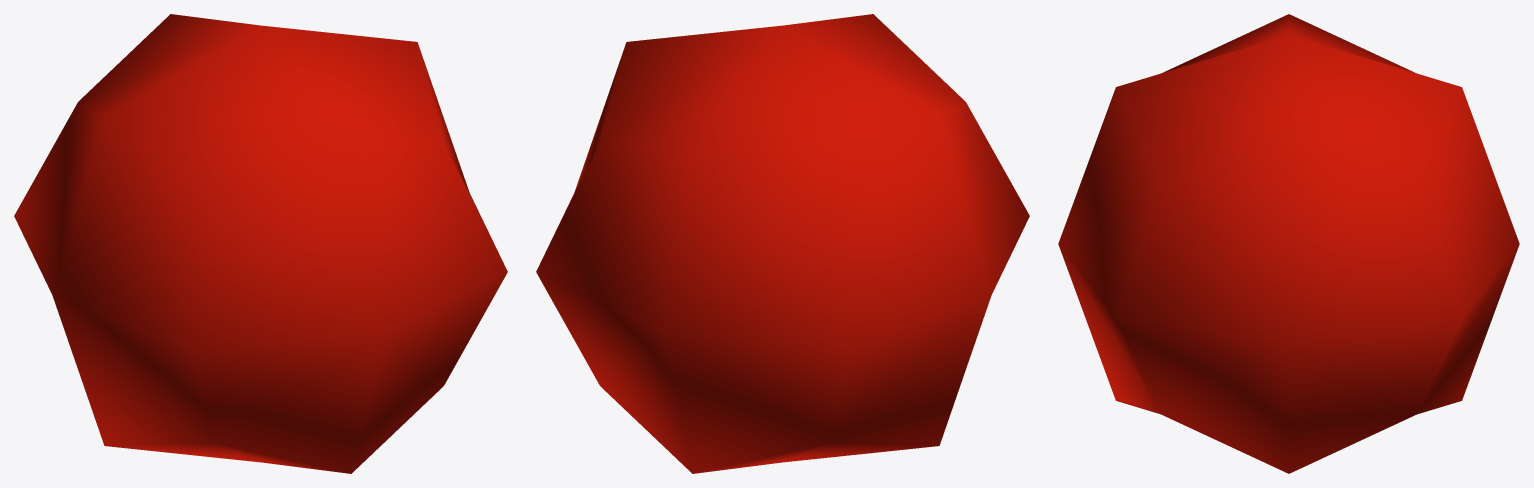
File: Yard_DriveWay_BasketBallHoop_ball.FBX
3 renders of one model, left to right at view 1: azimuth 30°, elevation 25°; view 2: azimuth 150°, elevation 25°; view 3: azimuth 270°, elevation 25°, orthographic. The views are drawn at different scales.
Visible parts, largest first — view 1: Yard_DriveWay_BasketBallHoop_ball; view 2: Yard_DriveWay_BasketBallHoop_ball; view 3: Yard_DriveWay_BasketBallHoop_ball.
Boxes of the visible parts, x1,y1,x2,y2 form: Yard_DriveWay_BasketBallHoop_ball: (14, 14, 507, 473); Yard_DriveWay_BasketBallHoop_ball: (536, 14, 1029, 473); Yard_DriveWay_BasketBallHoop_ball: (1058, 14, 1519, 473).
Bounding box in the file's own units: 63.66 × 63.66 × 63.66.
